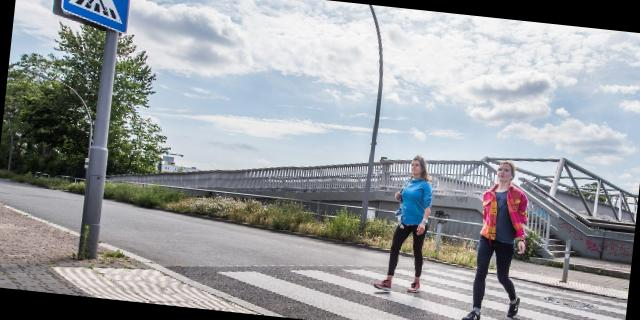crosswalk-sign: (51, 1, 132, 34)
